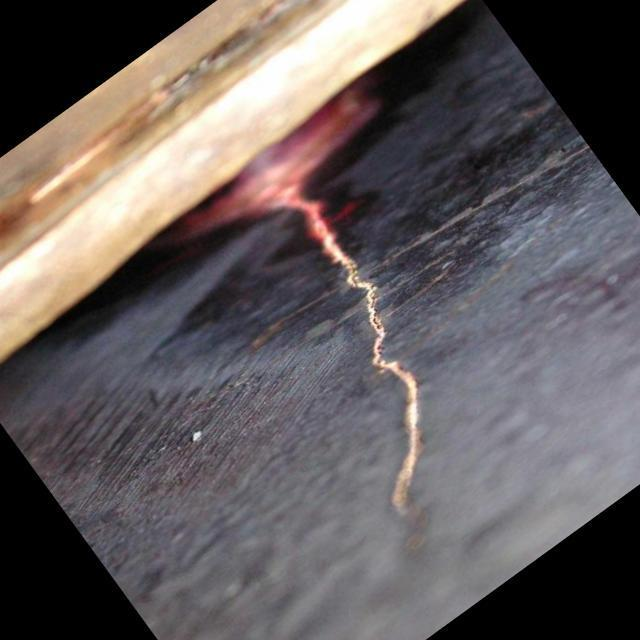defect: (276, 185, 444, 558)
